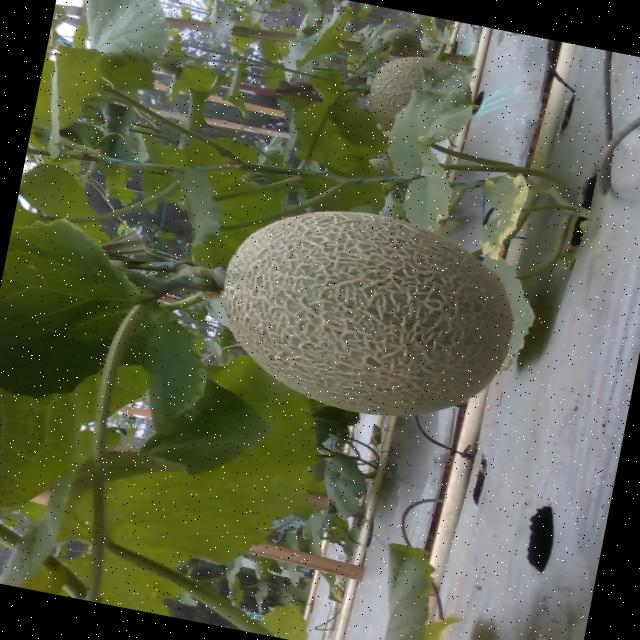melon: (224, 210, 513, 413)
